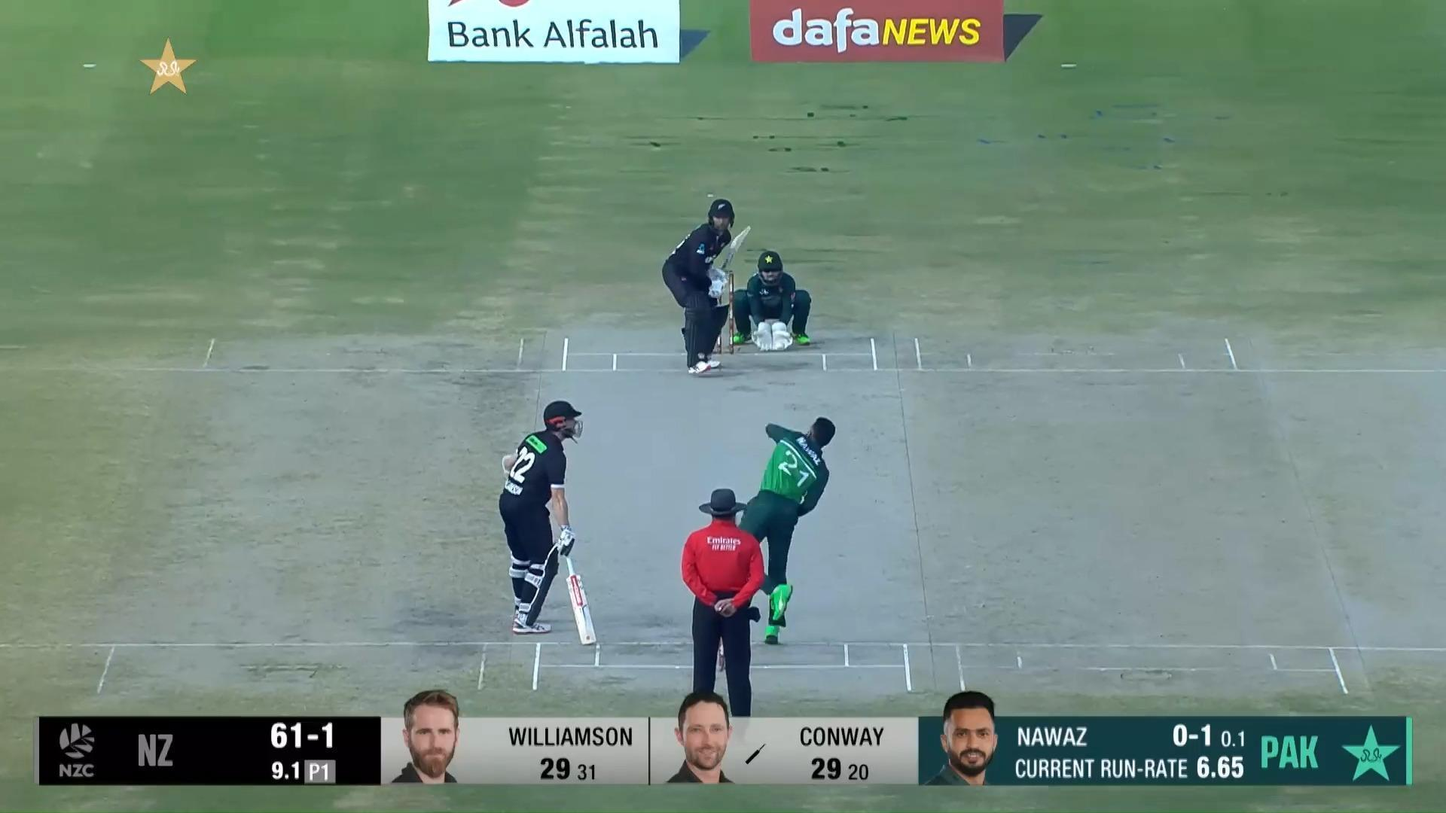BM 1: (662, 198, 752, 376)
BO: (738, 415, 836, 645)
